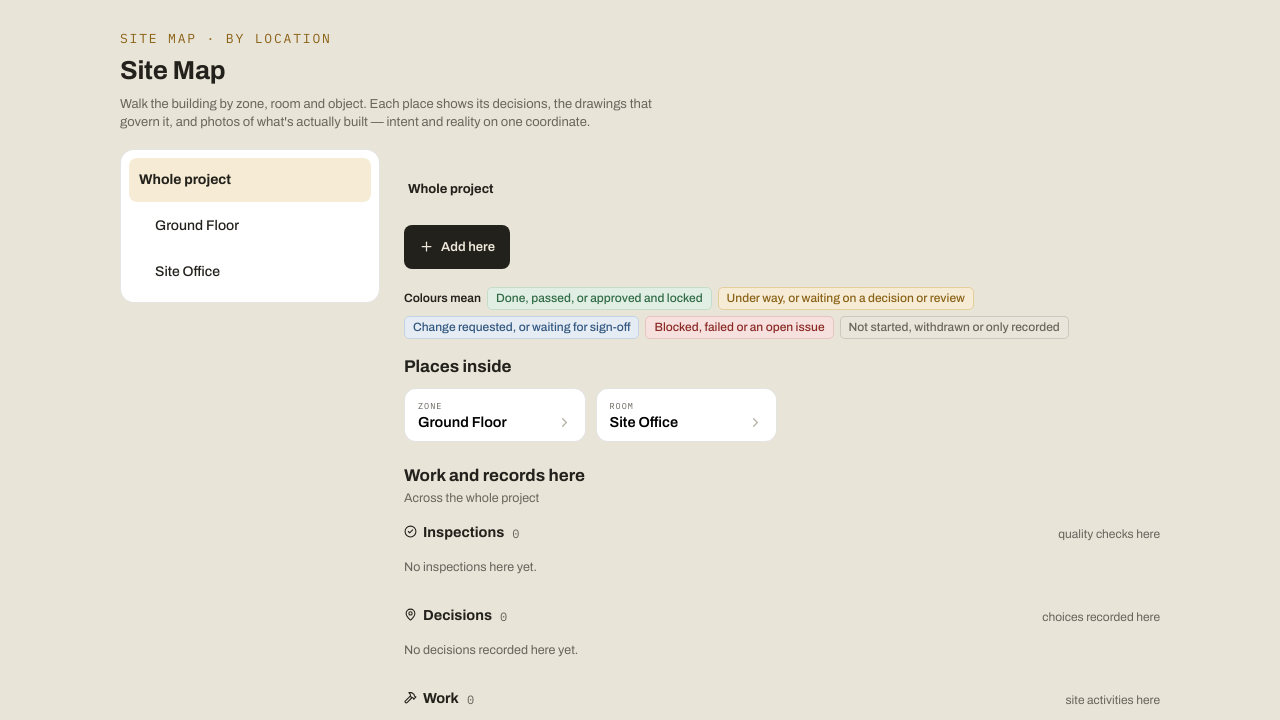
Test: a delivery is only offered when the log that carries it is open (F1) › an OPEN log leaves it enabled and describing itself
This screenshot has width=1280, height=720.
Click the button with test id "place-add": (457, 247) [404,225,510,269]
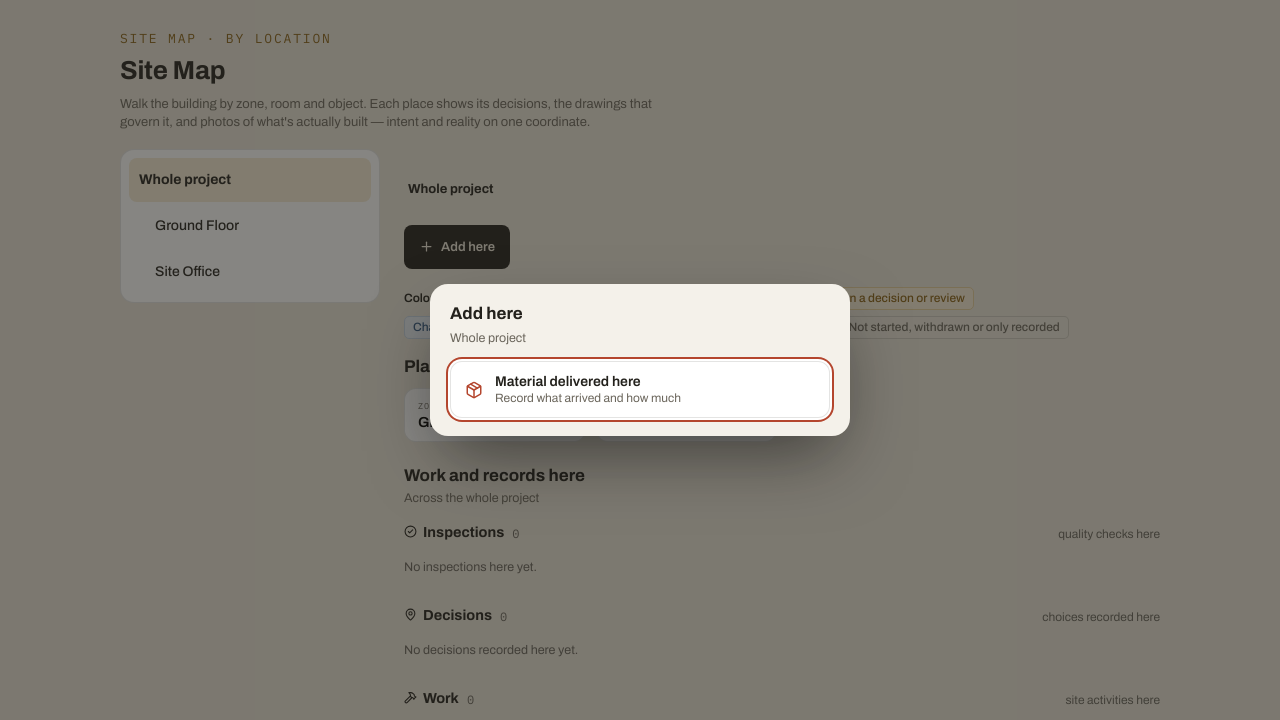
Check: the button with test id "create-material" is enabled, box [450,361,830,418]
